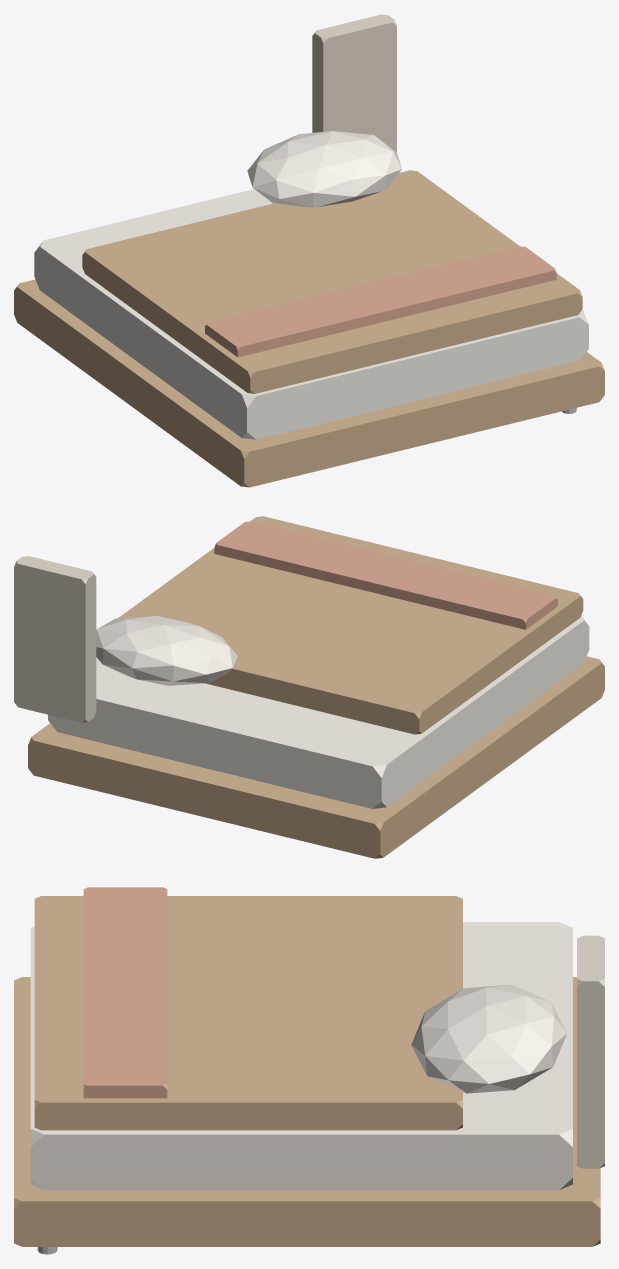
Rendered from king_bed_low.glb.
3 renders of one model, top to bottom at view 1: azimuth 30°, elevation 25°; view 2: azimuth 150°, elevation 25°; view 3: azimuth 270°, elevation 25°, orthographic. The views are drawn at different scales.
Parts seen in each view (by area): view 1: FABRIC_SAND_duvet, FABRIC_LIGHT_mattress, WOOD_DARK_frame, FABRIC_ACCENT_throw, FABRIC_MAIN_headboard_panel, FABRIC_LIGHT_pillow; view 2: FABRIC_SAND_duvet, FABRIC_LIGHT_mattress, WOOD_DARK_frame, FABRIC_ACCENT_throw, FABRIC_MAIN_headboard_panel, FABRIC_LIGHT_pillow; view 3: FABRIC_SAND_duvet, FABRIC_LIGHT_mattress, WOOD_DARK_frame, FABRIC_ACCENT_throw, FABRIC_LIGHT_pillow, FABRIC_MAIN_headboard_panel.
Boxes of the visible parts, box(x1,y1,x2,y2) form: FABRIC_SAND_duvet: box(82, 170, 582, 393); FABRIC_LIGHT_mattress: box(34, 189, 588, 439); WOOD_DARK_frame: box(14, 279, 604, 487); FABRIC_ACCENT_throw: box(205, 246, 556, 357); FABRIC_MAIN_headboard_panel: box(312, 14, 396, 151); FABRIC_LIGHT_pillow: box(247, 131, 401, 207); FABRIC_SAND_duvet: box(118, 516, 583, 734); FABRIC_LIGHT_mattress: box(48, 616, 589, 808); WOOD_DARK_frame: box(28, 656, 604, 858); FABRIC_ACCENT_throw: box(214, 521, 557, 629); FABRIC_MAIN_headboard_panel: box(14, 556, 96, 722); FABRIC_LIGHT_pillow: box(96, 615, 237, 685); FABRIC_SAND_duvet: box(34, 896, 462, 1130); FABRIC_LIGHT_mattress: box(30, 922, 572, 1190); WOOD_DARK_frame: box(14, 977, 600, 1246); FABRIC_ACCENT_throw: box(83, 887, 167, 1098); FABRIC_LIGHT_pillow: box(411, 984, 567, 1093); FABRIC_MAIN_headboard_panel: box(577, 935, 604, 1168).
Size of the model in its own units: 1.97 by 1.15 by 2.12.
